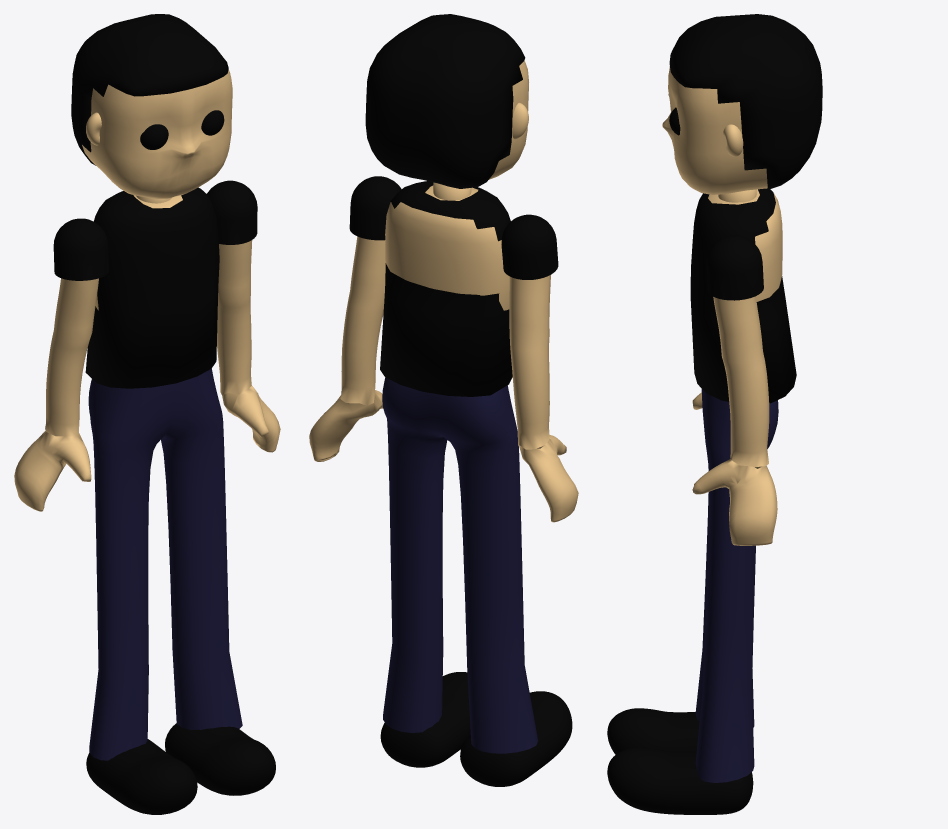
Rendered from MaleNPCSeperatedstartingfinal.fbx.
The picture shows the model from 3 angles, left to right: view 1: azimuth 30°, elevation 25°; view 2: azimuth 150°, elevation 25°; view 3: azimuth 270°, elevation 25°; orthographic projection. The views are drawn at different scales.
Parts seen in each view (by area): view 1: legs, torso.001, Sphere.004, Sphere.003, armL, armR, feetR, feetL, Cylinder.008, Cylinder.009; view 2: legs, Sphere.003, torso.001, torso, armL, armR, feetL, feetR, Cylinder.008, Cylinder.009, Sphere.004; view 3: Sphere.003, legs, armR, torso.001, Sphere.004, feetR, feetL, Cylinder.009, torso.
Boxes of the visible parts, x1,y1,x2,y2 form: legs: (88,368,242,760); torso.001: (85,187,219,388); Sphere.004: (82,69,232,199); Sphere.003: (71,14,228,165); armL: (14,278,98,511); armR: (217,240,280,452); feetR: (165,723,275,795); feetL: (86,739,197,814); Cylinder.008: (53,218,109,280); Cylinder.009: (207,180,257,244); legs: (382,377,538,753); Sphere.003: (365,14,525,188); torso.001: (380,181,512,396); torso: (385,182,509,310); armL: (509,275,578,522); armR: (309,236,385,461); feetL: (460,691,572,786); feetR: (380,672,470,767); Cylinder.008: (501,214,558,279); Cylinder.009: (349,176,401,240); Sphere.004: (489,60,528,179); Sphere.003: (669,14,822,189); legs: (695,389,778,782); armR: (692,296,777,545); torso.001: (690,188,796,403); Sphere.004: (662,66,767,194); feetR: (607,747,753,814); feetL: (607,708,699,754); Cylinder.009: (706,235,763,300); torso: (708,189,782,301).
Bounding box in the file's own units: 317 × 885 × 342.
